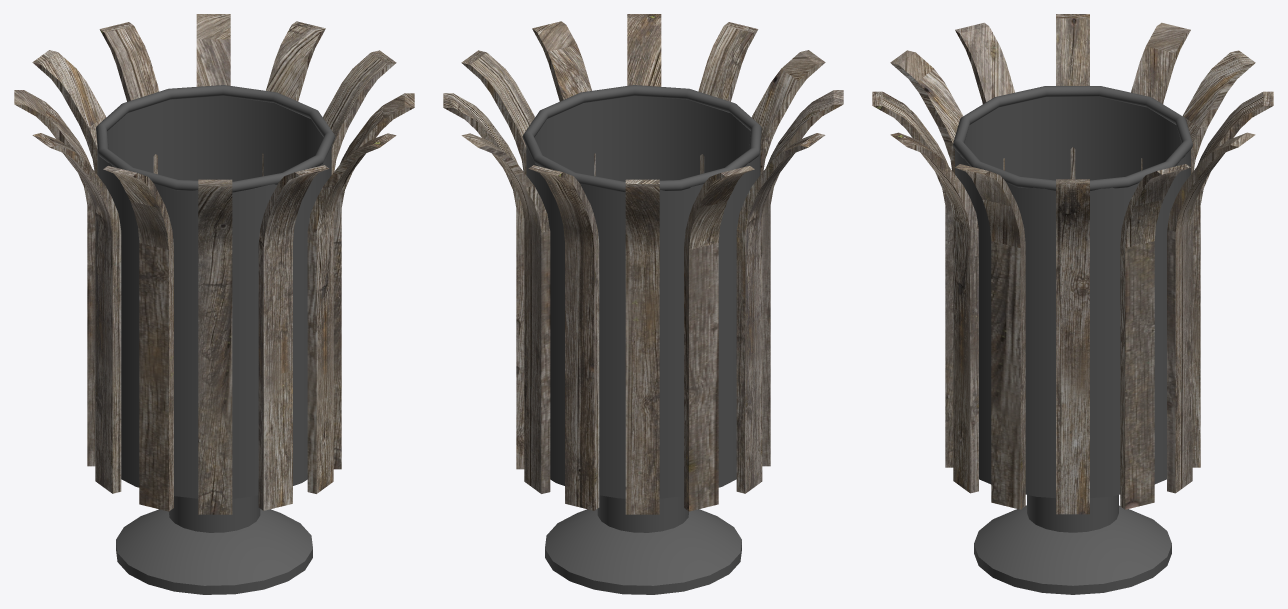
Rendered from trashcan.fbx.
3 renders of one model, left to right at view 1: azimuth 30°, elevation 25°; view 2: azimuth 150°, elevation 25°; view 3: azimuth 270°, elevation 25°, orthographic.
Parts seen in each view (by area): view 1: polySurface1, polySurface2; view 2: polySurface1, polySurface2; view 3: polySurface1, polySurface2.
Boxes of the visible parts, x1=… form: polySurface1: x1=14, y1=14, x2=414, y2=514; polySurface2: x1=96, y1=85, x2=335, y2=594; polySurface1: x1=443, y1=14, x2=843, y2=514; polySurface2: x1=522, y1=85, x2=761, y2=594; polySurface1: x1=872, y1=14, x2=1273, y2=514; polySurface2: x1=953, y1=86, x2=1192, y2=594.
Size of the model in its own units: 42.37 by 52.97 by 42.37.
